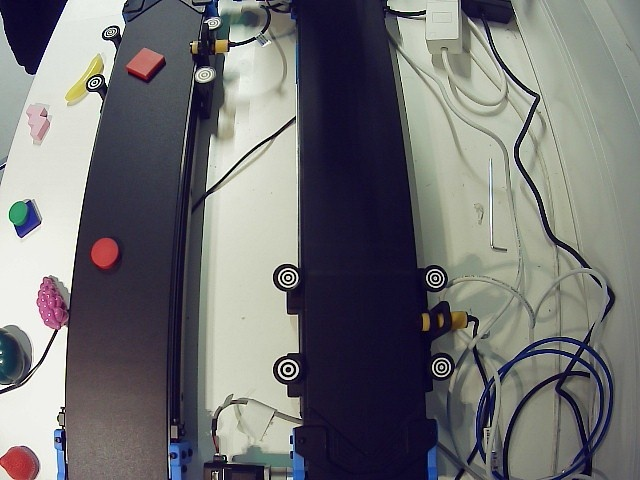Red_Circle: (89, 236, 123, 271)
Red_Square: (124, 48, 168, 83)
